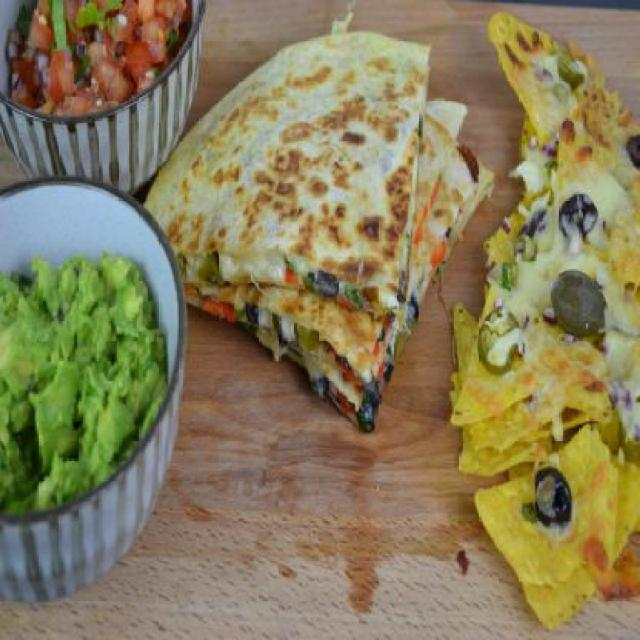chicken quesadilla: (142, 17, 488, 438)
guacamole: (1, 228, 165, 542)
nachos: (454, 2, 637, 633)
